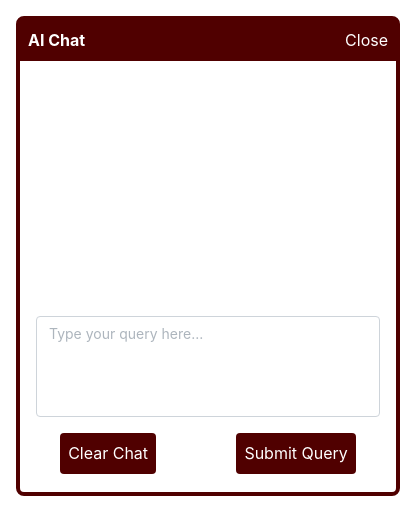
Test case: AIModal Component › handles API error response
Step 1. Type "test query" into the text box with placeholder "Type your query here..." → (208, 366), box [36, 316, 380, 417]
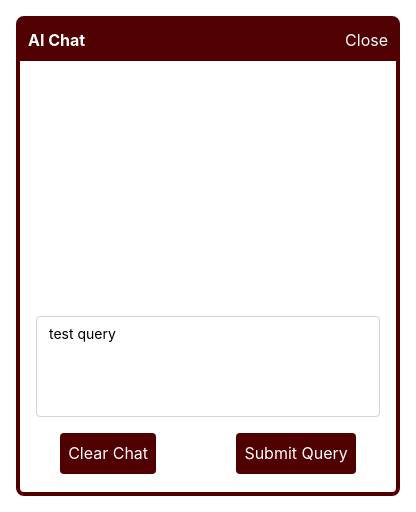
Step 2. Click the button "Submit Query" → (296, 453), box [236, 433, 356, 474]
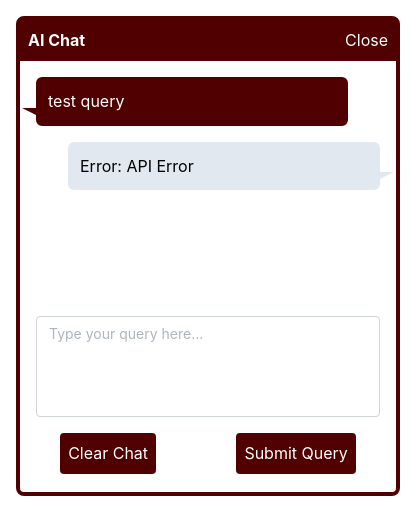
Check: the text "Error: API Error" is shown, box [68, 142, 380, 190]
